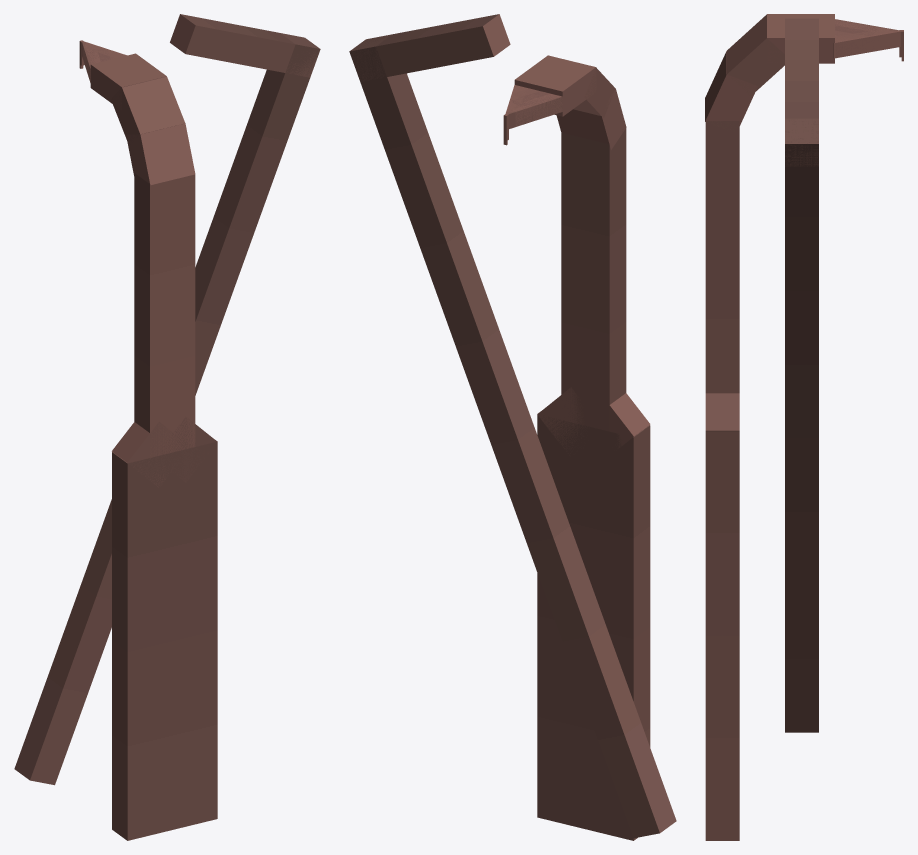
File: lockpick.glb
3 views of the same model, side by side, from view 1: azimuth 30°, elevation 25°; view 2: azimuth 150°, elevation 25°; view 3: azimuth 270°, elevation 25° (orthographic). The views are drawn at different scales.
Parts seen in each view (by area): view 1: cube_0, cube_18, cube_1, cube_19, cube_4, cube_5, cube_6, cube_3, cube_2; view 2: cube_18, cube_0, cube_1, cube_19, cube_6, cube_4, cube_2, cube_3, cube_5, cube_10, cube_8; view 3: cube_18, cube_0, cube_1, cube_19, cube_5, cube_4, cube_6, cube_2, cube_7, cube_9.
Part boxes in pixels (x1,y1,x2,y2): cube_0: [112, 440, 217, 840]; cube_18: [14, 33, 320, 785]; cube_1: [134, 173, 195, 457]; cube_19: [170, 14, 319, 77]; cube_4: [126, 123, 195, 185]; cube_5: [111, 76, 185, 143]; cube_6: [90, 53, 166, 110]; cube_3: [112, 422, 180, 487]; cube_2: [157, 417, 216, 482]; cube_18: [349, 34, 676, 838]; cube_0: [537, 412, 650, 840]; cube_1: [561, 127, 626, 431]; cube_19: [351, 14, 510, 81]; cube_6: [514, 55, 596, 116]; cube_4: [556, 89, 626, 149]; cube_2: [537, 387, 587, 455]; cube_3: [609, 393, 650, 448]; cube_5: [573, 68, 615, 118]; cube_10: [510, 93, 562, 126]; cube_8: [507, 96, 562, 128]; cube_18: [785, 118, 818, 732]; cube_0: [705, 430, 739, 840]; cube_1: [705, 121, 739, 393]; cube_19: [785, 18, 818, 166]; cube_5: [727, 14, 784, 95]; cube_4: [705, 51, 757, 129]; cube_6: [767, 14, 834, 63]; cube_2: [705, 393, 739, 431]; cube_7: [833, 31, 900, 58]; cube_9: [833, 29, 889, 57].
Bounding box in the file's own units: 0.2015 × 0.5056 × 0.1097.
Materials: 1 (1 with a texture image).
